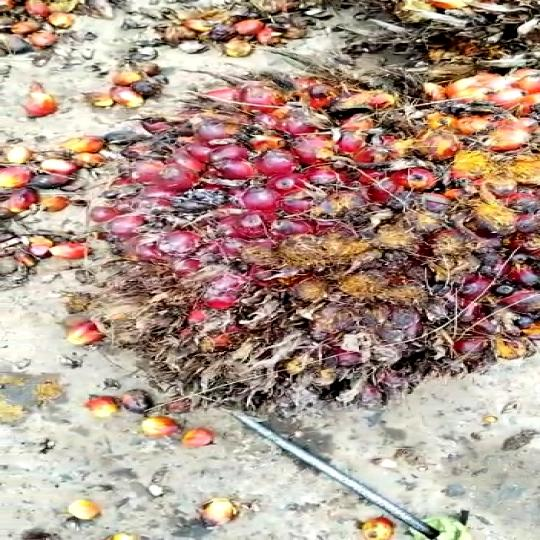masak: (81, 63, 540, 420)
